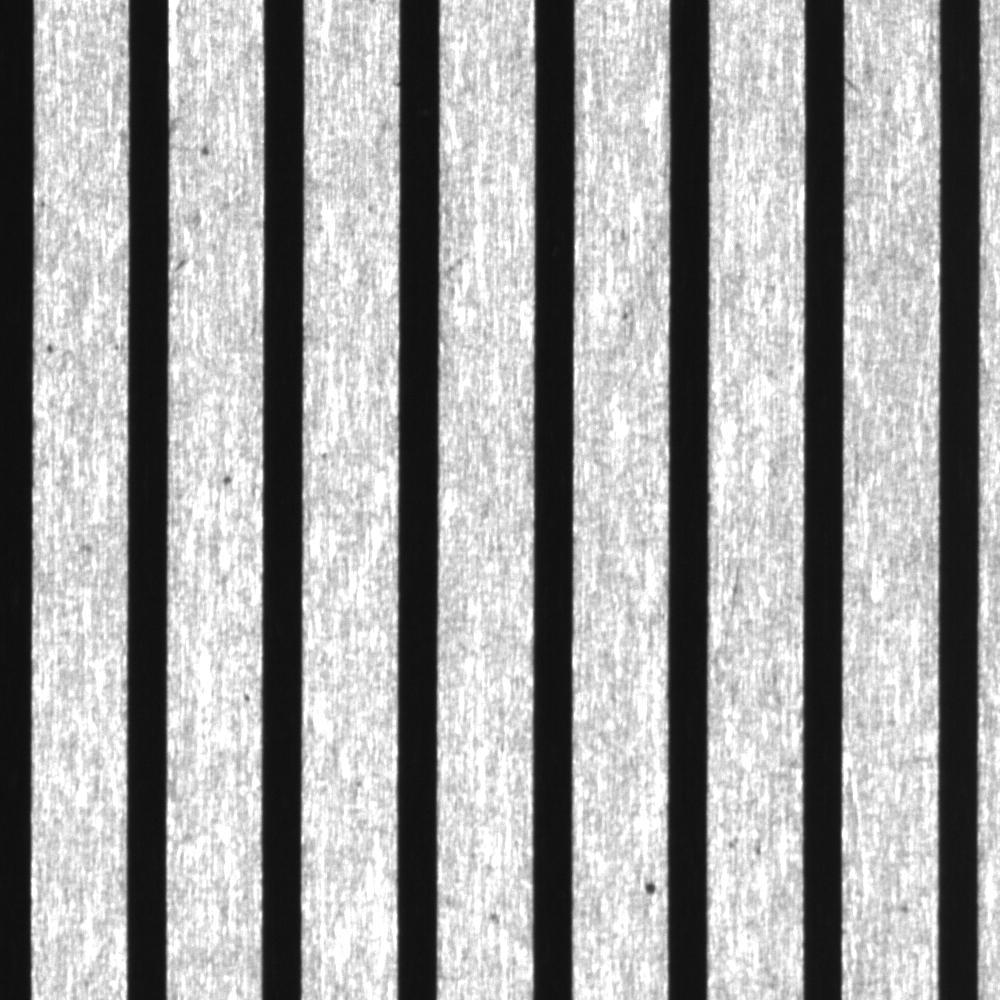Etching: (723, 818, 768, 867), (38, 329, 70, 368)
Pinhole: (207, 455, 252, 500), (631, 863, 667, 919), (188, 131, 217, 164)
